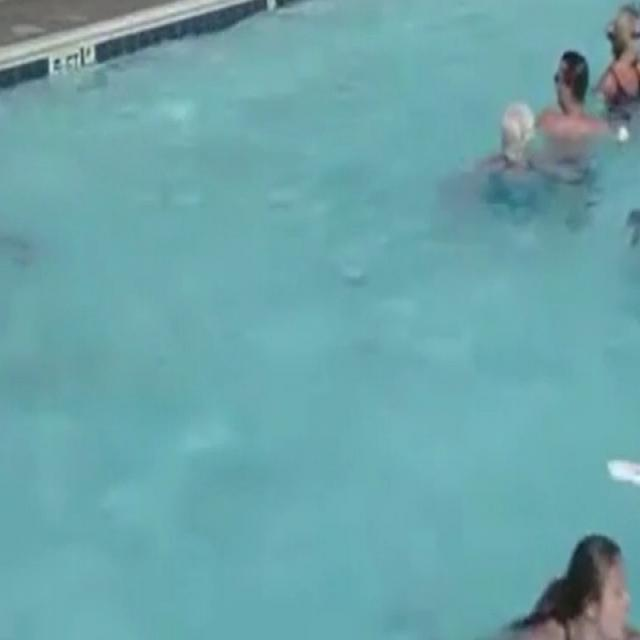swimming: (472, 0, 640, 234)
